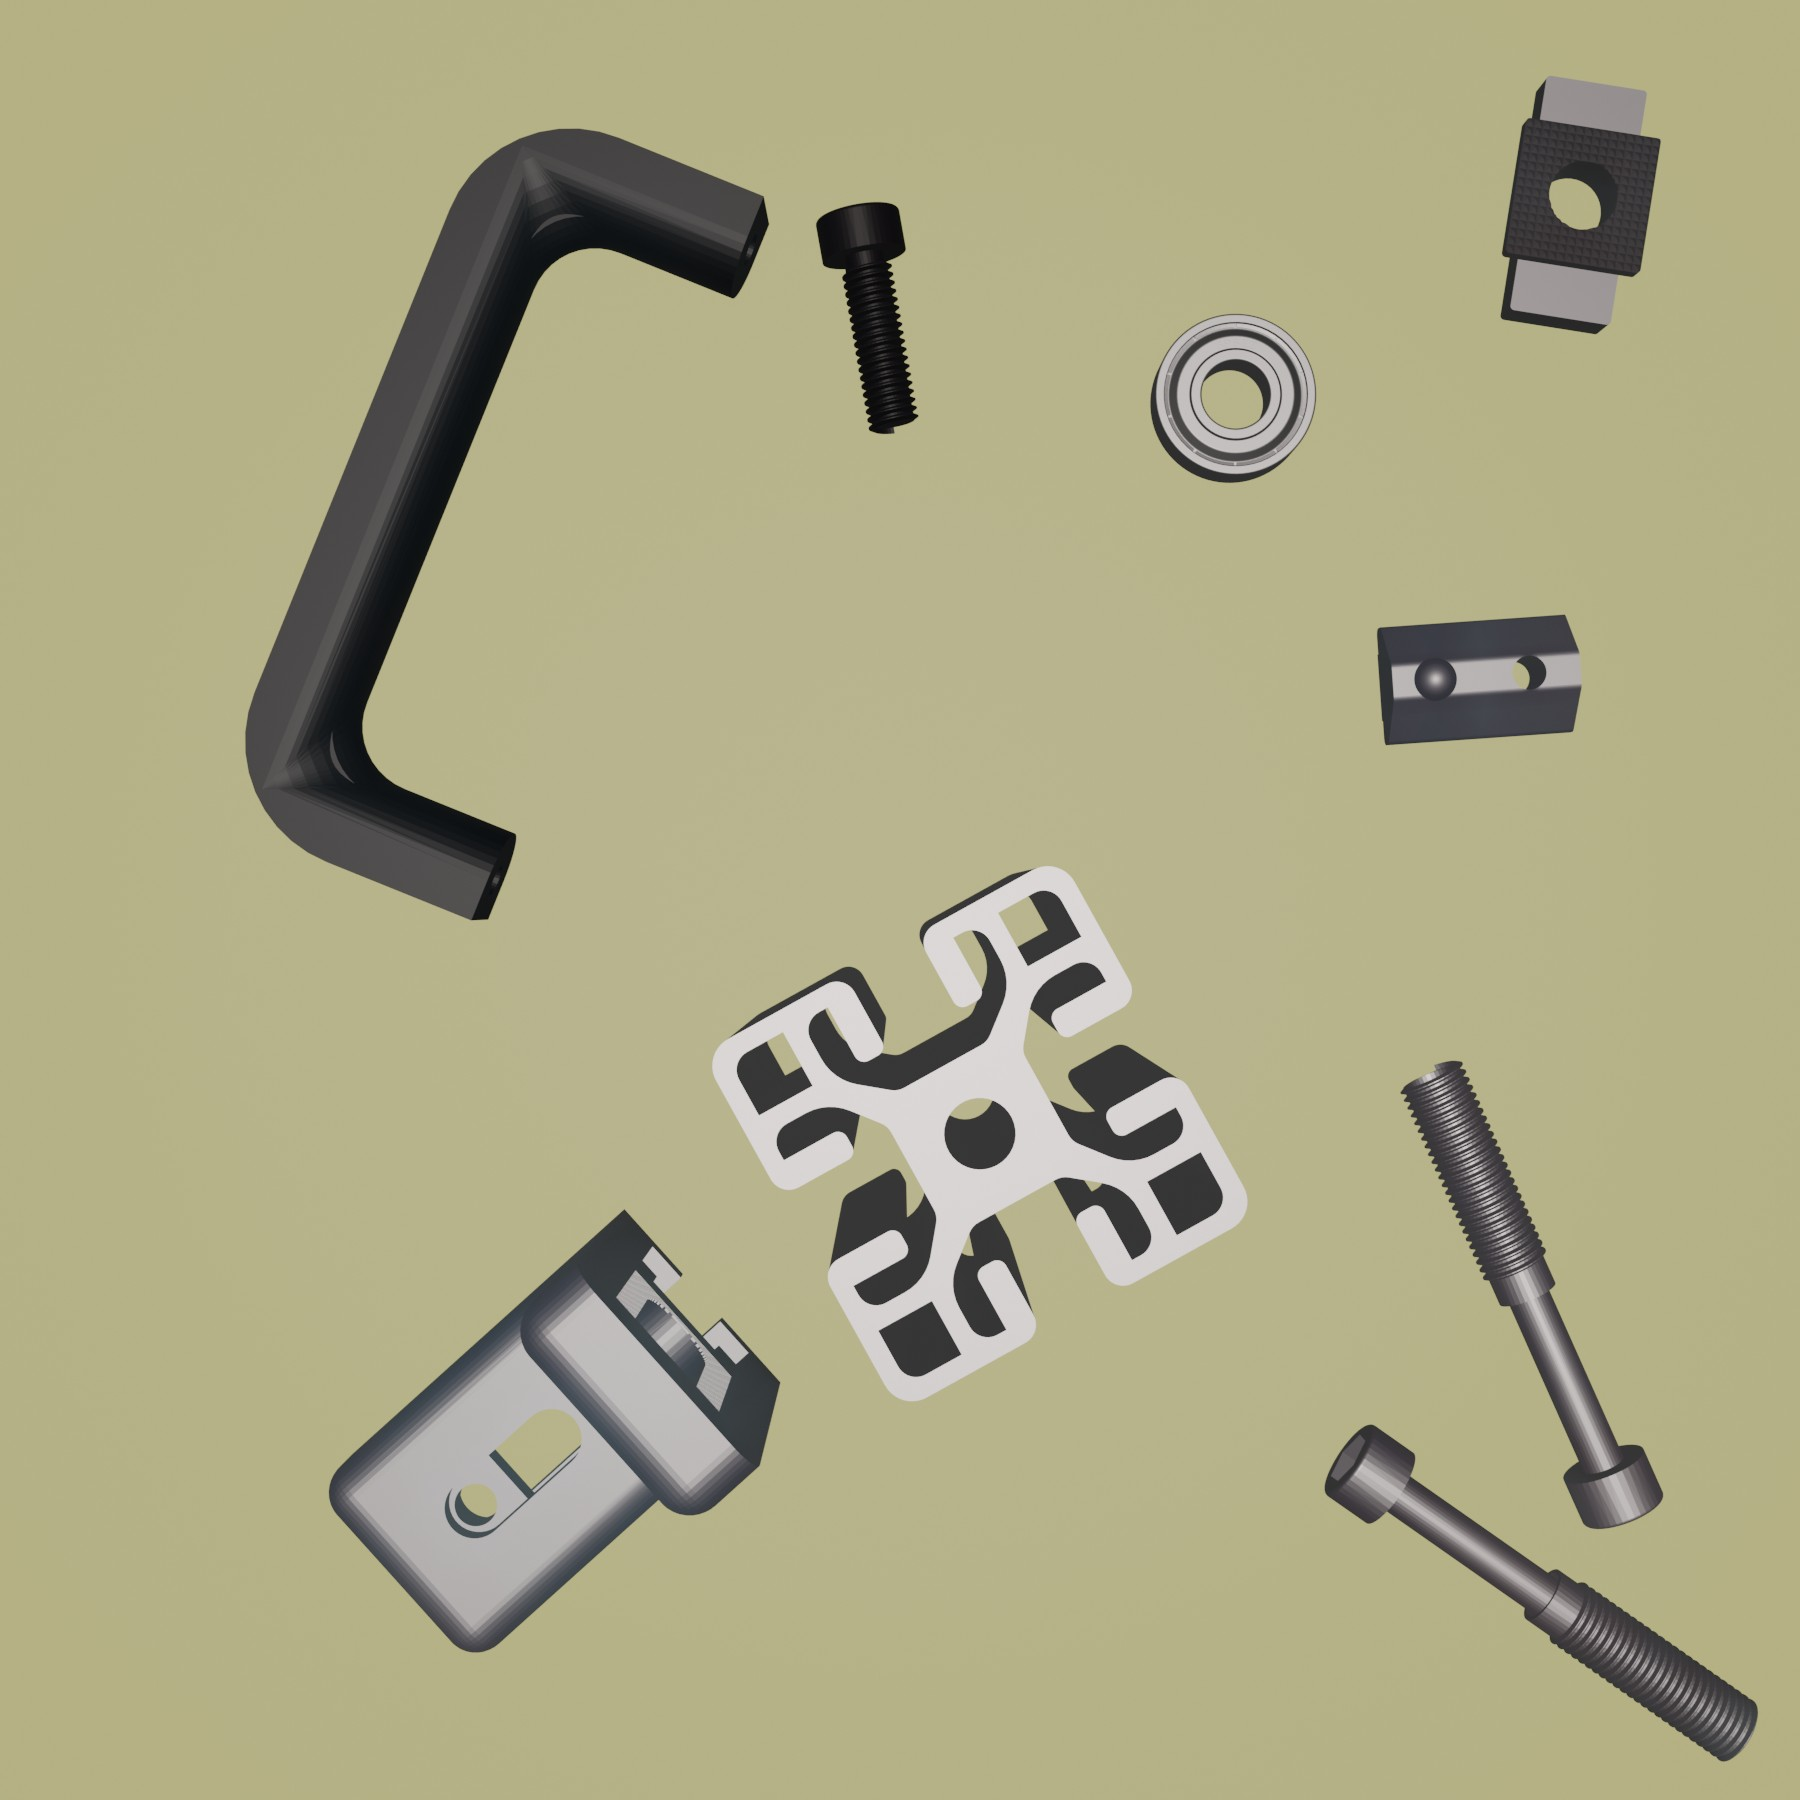Aluminium Extension: (709, 862, 1251, 1408)
Ball Bearing: (1146, 308, 1320, 486)
Multiwinkel: (325, 1203, 785, 1655)
Pull Handle: (242, 124, 775, 925)
Shoulder Socket Head Cap Screw: (1320, 1419, 1759, 1765), (1398, 1057, 1666, 1531)
Socket Head Cap Screw: (813, 199, 920, 438)
T Nut Square: (1497, 73, 1662, 336)
T Spring Nut: (1375, 607, 1586, 750)
